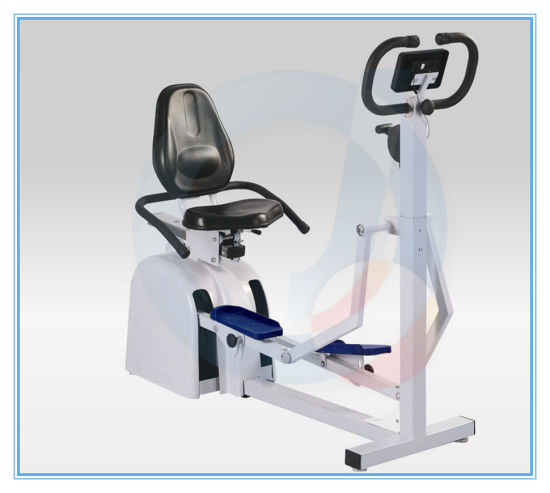gym_bike: (113, 29, 485, 470)
